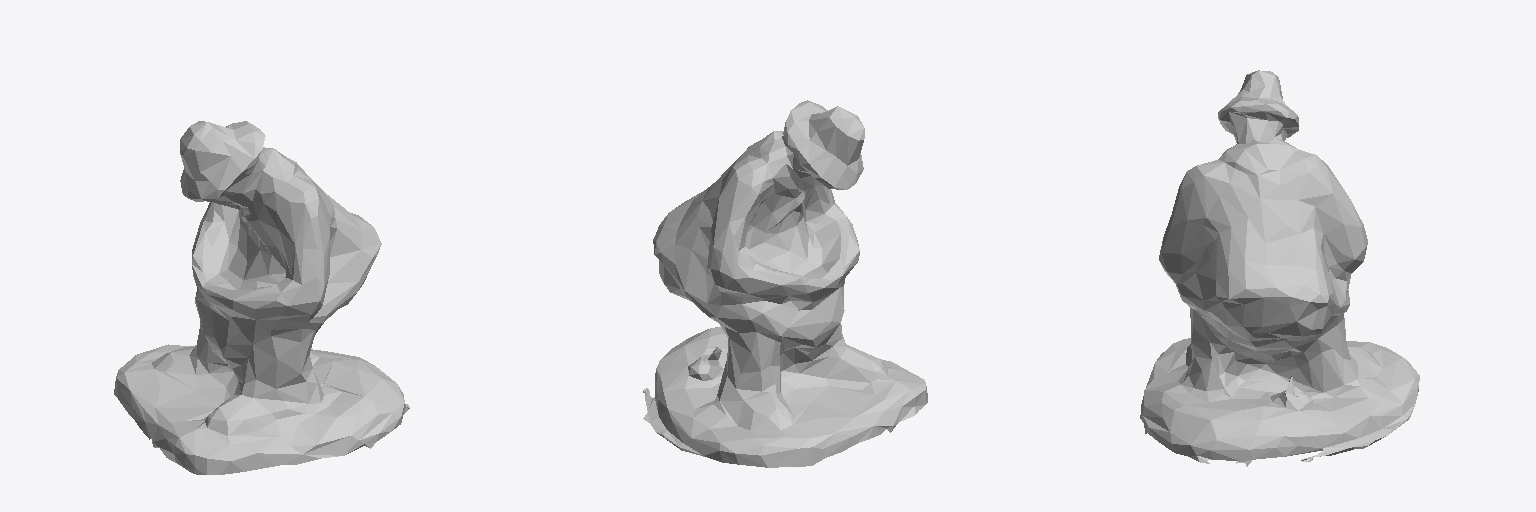
The model's file is caganerBaixRes.obj.
3 renders of one model, left to right at view 1: azimuth 30°, elevation 25°; view 2: azimuth 150°, elevation 25°; view 3: azimuth 270°, elevation 25°, orthographic.
Parts seen in each view (by area): view 1: lowpoly_caganer; view 2: lowpoly_caganer; view 3: lowpoly_caganer.
Part boxes in pixels (bbox=[...]): lowpoly_caganer: bbox=[114, 121, 409, 474]; lowpoly_caganer: bbox=[643, 100, 927, 467]; lowpoly_caganer: bbox=[1140, 70, 1419, 466].
Size of the model in its own units: 0.5665 by 0.7167 by 0.5798.